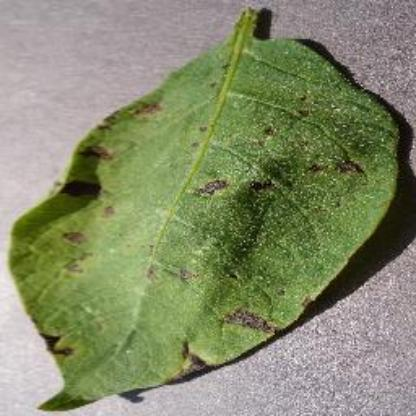Early-Blight: (8, 8, 398, 408)
